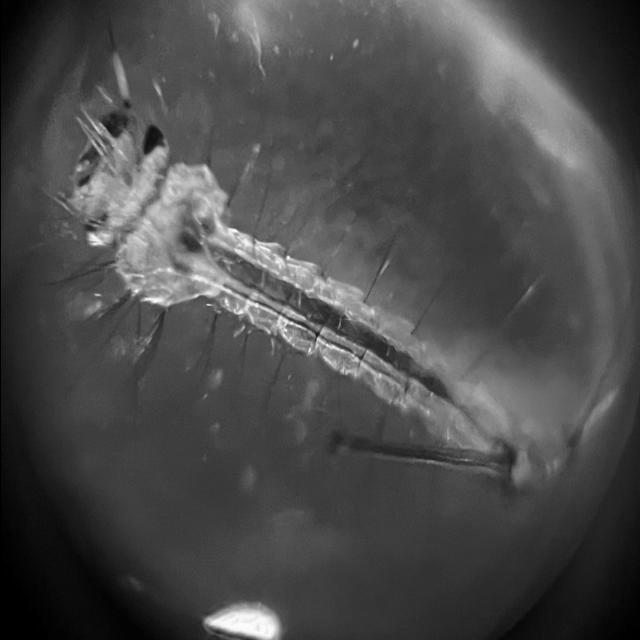larvas: (69, 100, 538, 482)
